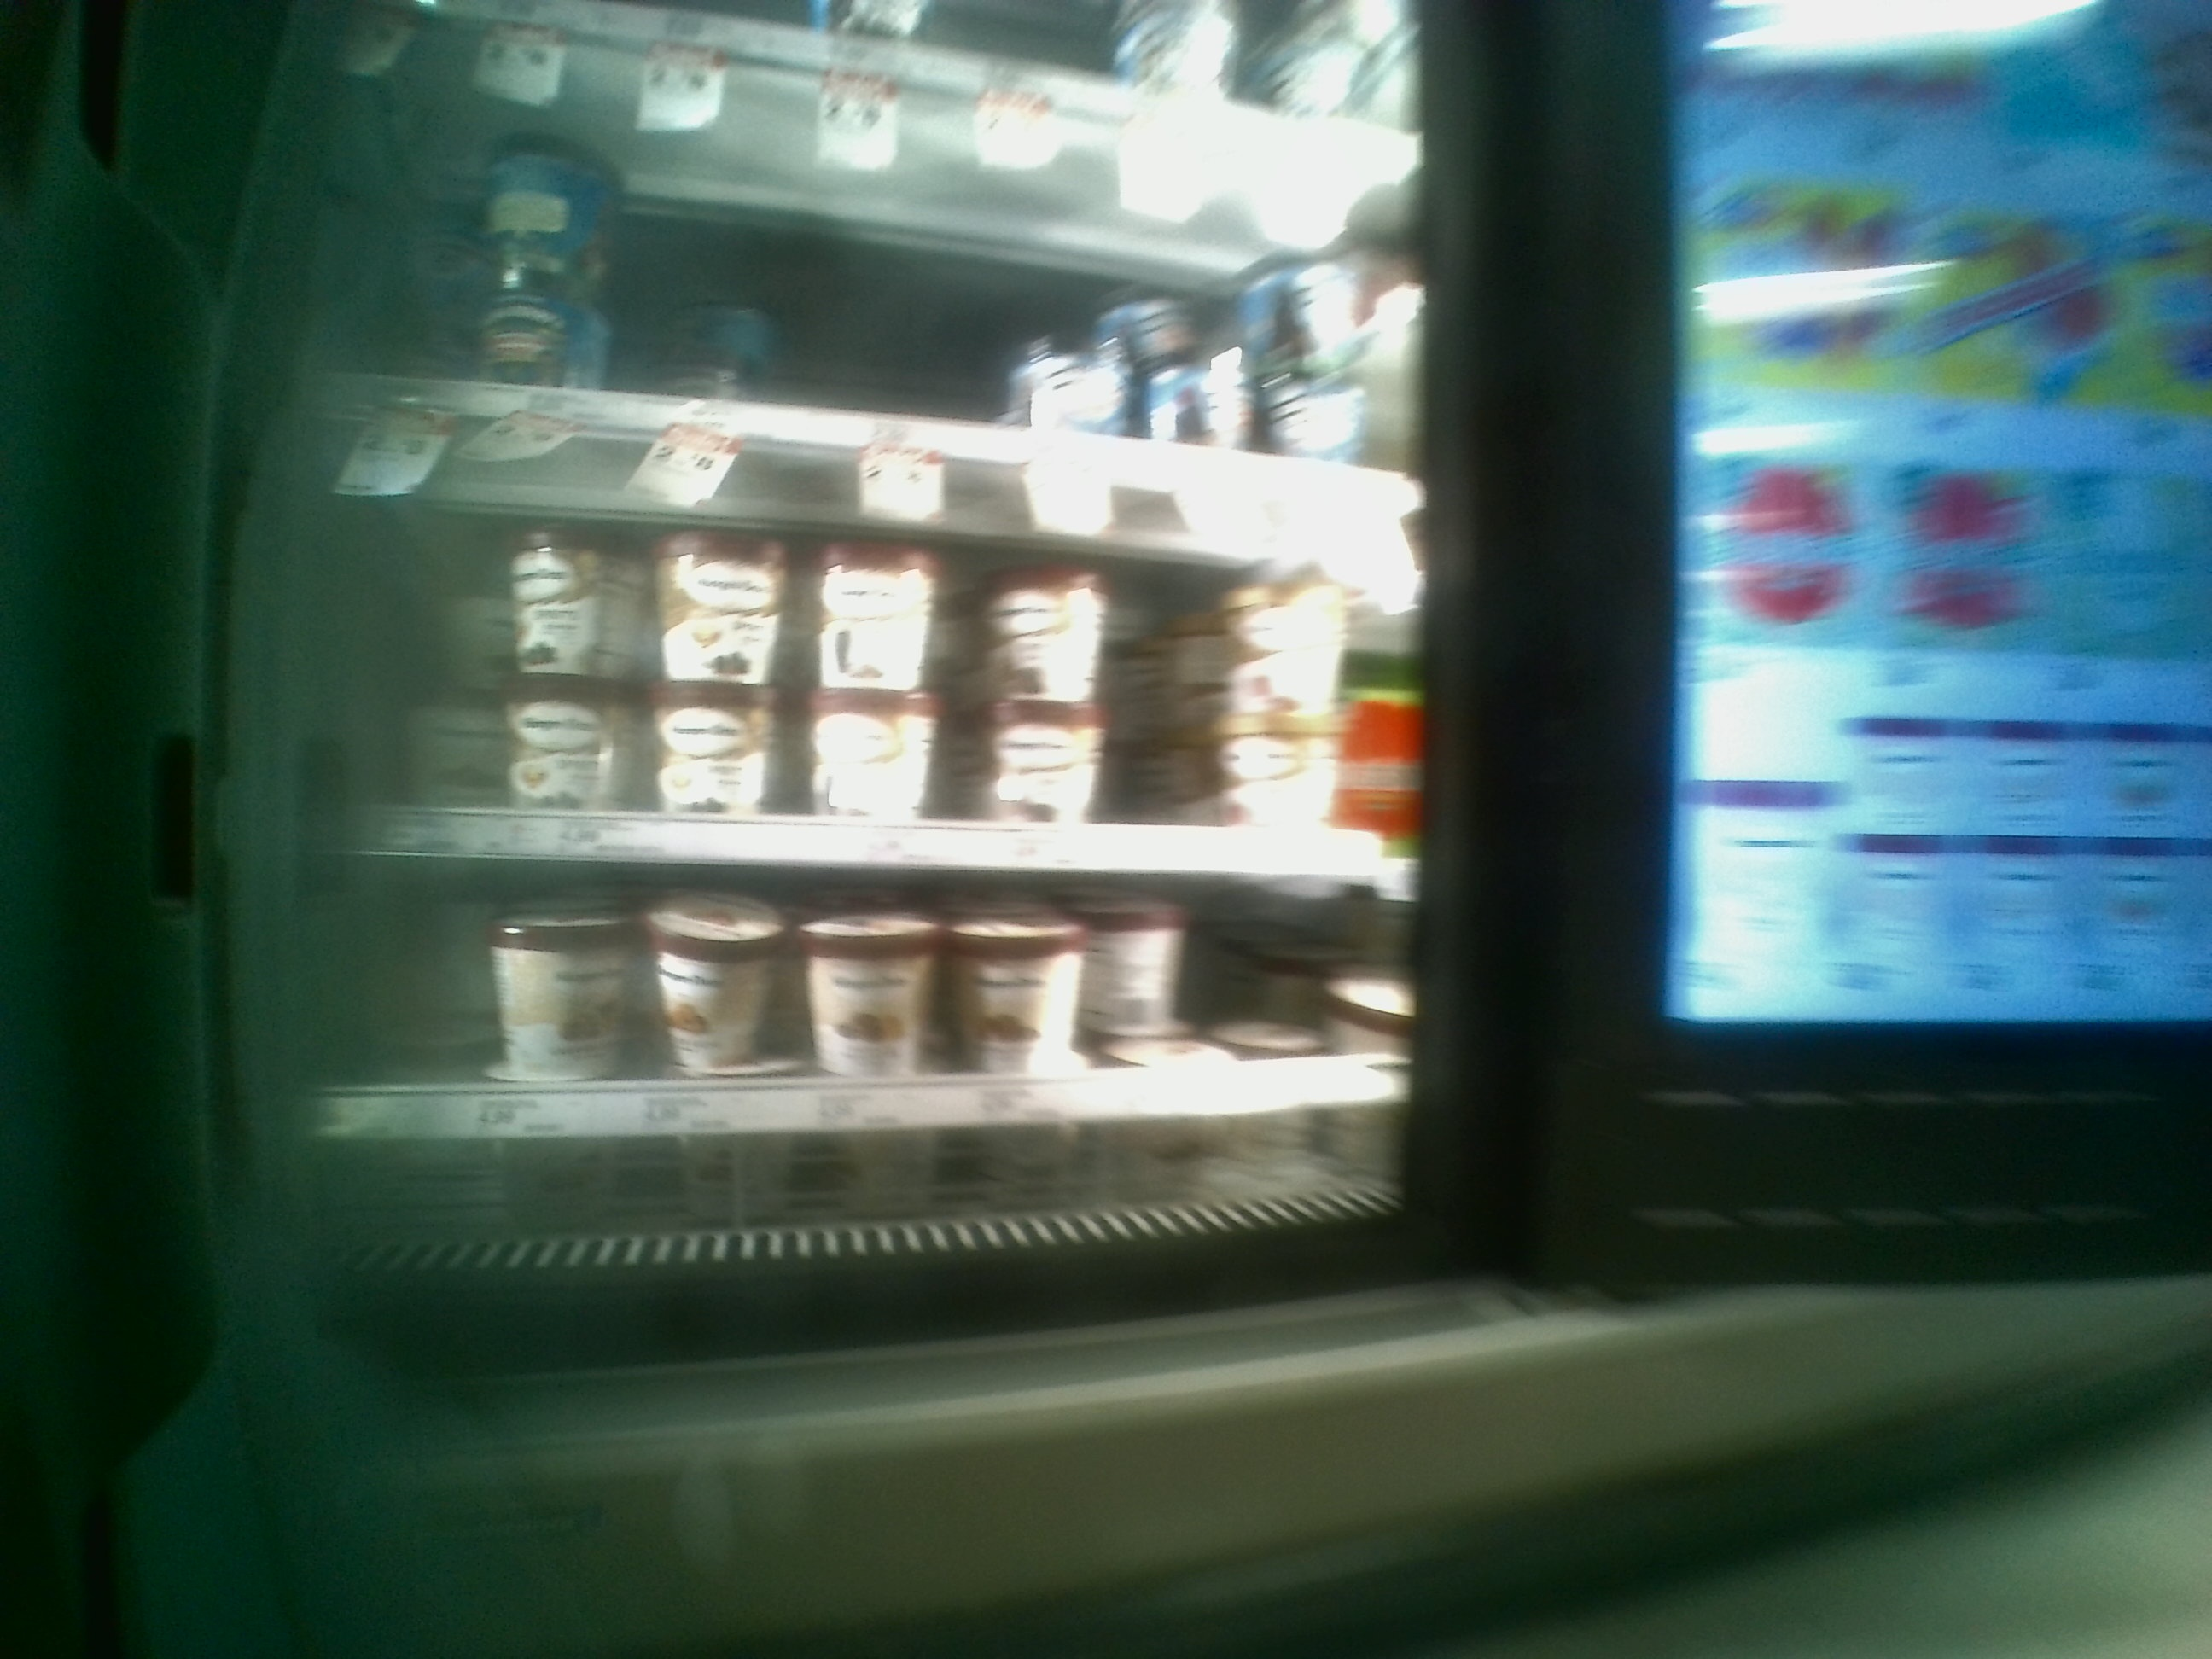shelf: (326, 410, 1413, 868), (329, 863, 1418, 1234)
